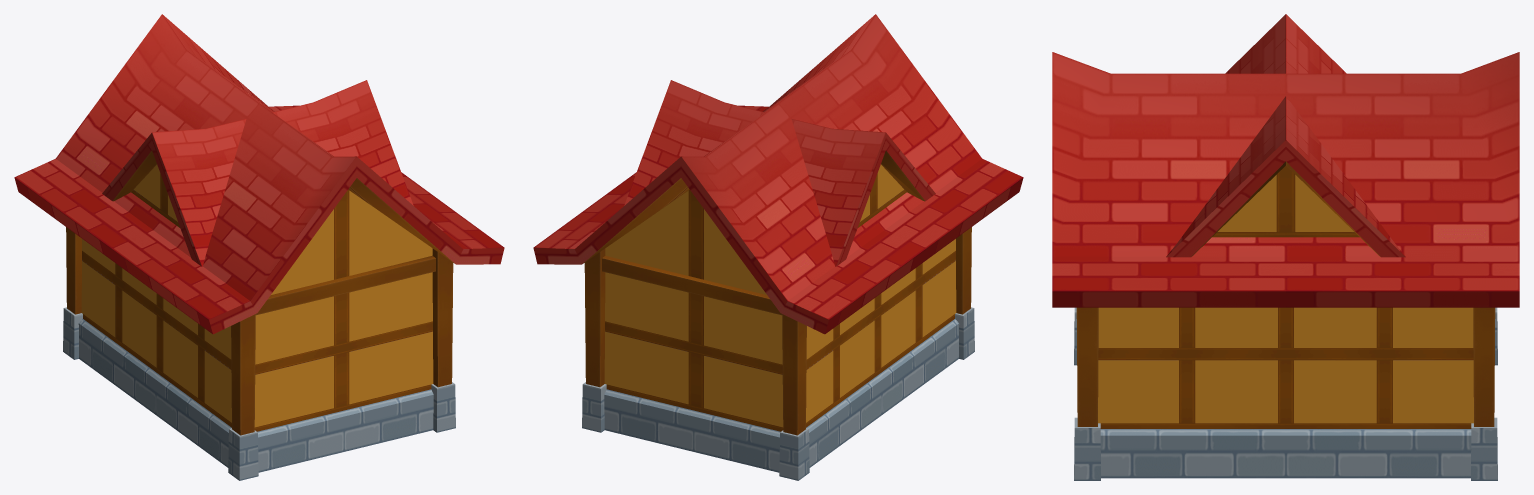
Rendered from HOS0410010.fbx.
The picture shows the model from 3 angles, left to right: view 1: azimuth 30°, elevation 25°; view 2: azimuth 150°, elevation 25°; view 3: azimuth 270°, elevation 25°; orthographic projection. The views are drawn at different scales.
Visible parts, largest first — view 1: smHOS0410010; view 2: smHOS0410010; view 3: smHOS0410010.
Boxes of the visible parts, box(x1,y1,x2,y2) form: smHOS0410010: box(14, 14, 504, 480); smHOS0410010: box(533, 14, 1023, 480); smHOS0410010: box(1052, 14, 1519, 480).
Size of the model in its own units: 383 by 377 by 436.
Materials: 1 (1 with a texture image).
